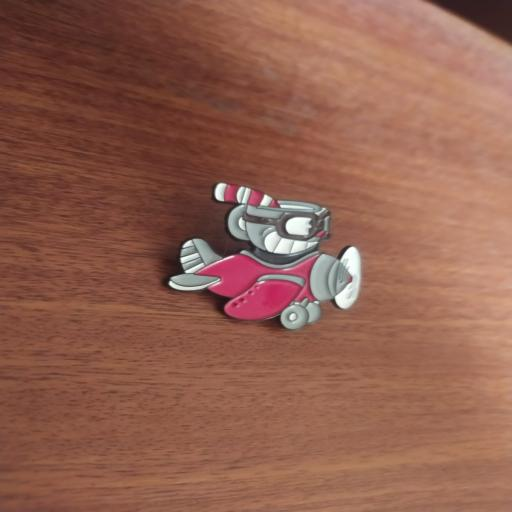Pin: (154, 174, 374, 339)
